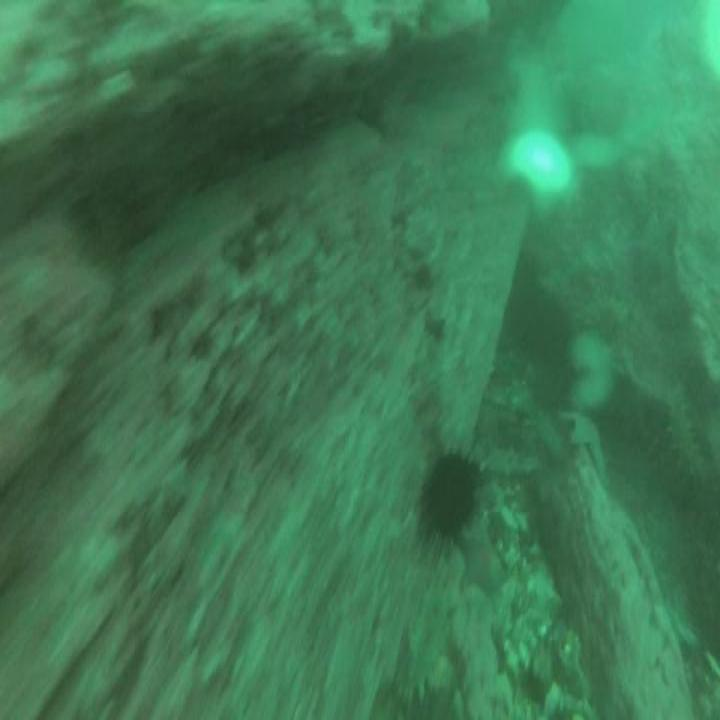echinus: (421, 437, 482, 550)
holothurian: (664, 380, 708, 483), (467, 430, 536, 480), (573, 290, 632, 332)
starfish: (561, 402, 611, 478)
